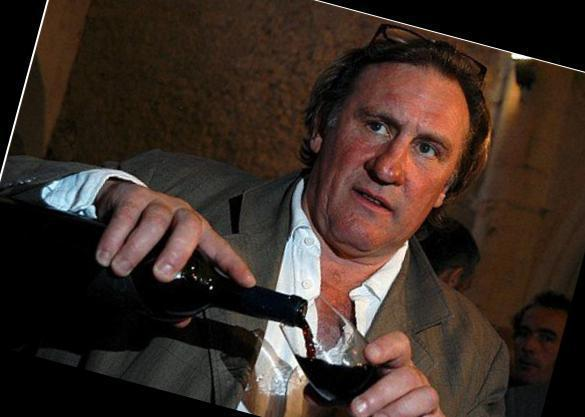Drunk: (337, 73, 452, 241)
